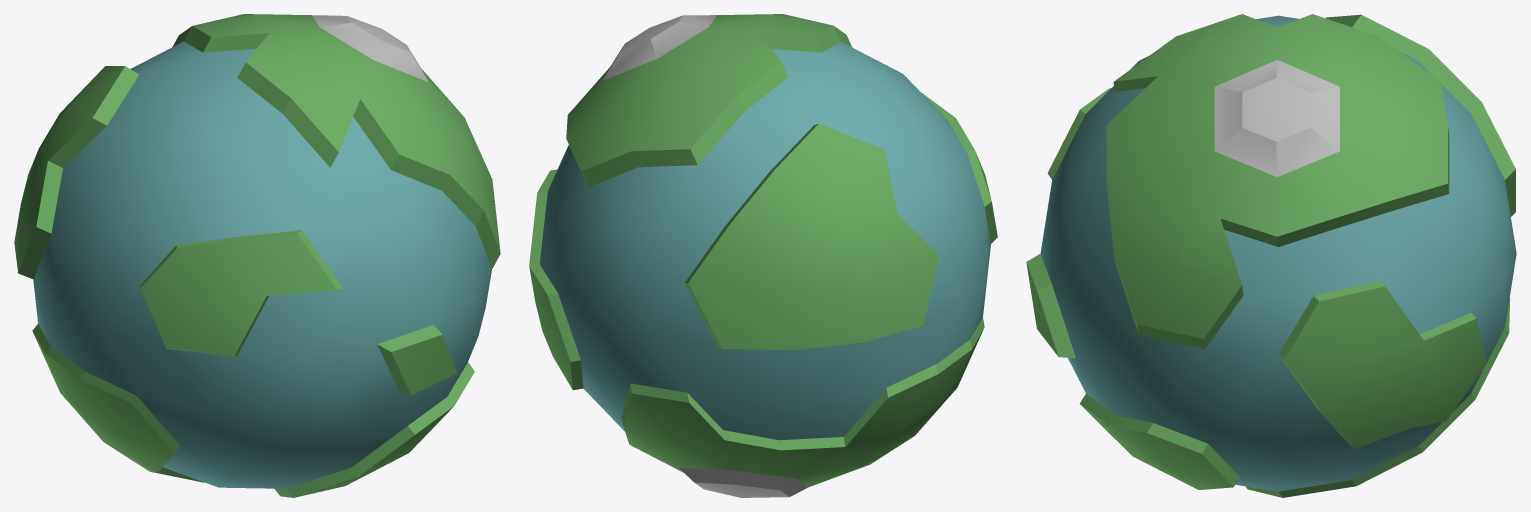
Rendered from Planet 1.glb.
3 renders of one model, left to right at view 1: azimuth 30°, elevation 25°; view 2: azimuth 150°, elevation 25°; view 3: azimuth 270°, elevation 25°, orthographic. The views are drawn at different scales.
Parts seen in each view (by area): view 1: Planet_1; view 2: Planet_1; view 3: Planet_1.
Boxes of the visible parts, left/top/right/bottom form: Planet_1: left=14, top=14, right=500, bottom=497; Planet_1: left=529, top=14, right=997, bottom=497; Planet_1: left=1026, top=14, right=1516, bottom=497.
Size of the model in its own units: 3.88 by 3.99 by 3.91.
1 material, 1 textured.
